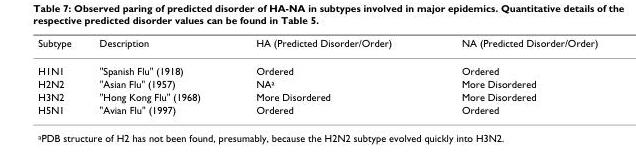table: (37, 36, 597, 115)
table column: (227, 36, 426, 115), (426, 36, 597, 115), (84, 36, 227, 115), (37, 36, 84, 115)
table column header: (37, 36, 597, 56)
table row: (37, 56, 597, 77), (37, 36, 597, 56), (37, 89, 597, 102), (37, 102, 597, 115), (37, 77, 597, 89)
